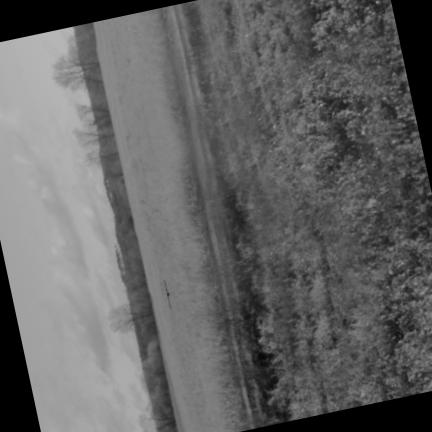Shahed: (163, 279, 171, 308)
